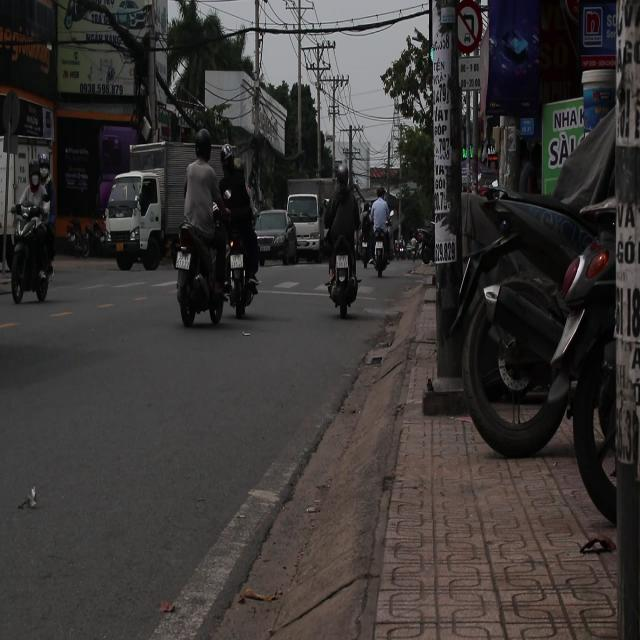car: (255, 212, 298, 264)
motorbike: (172, 221, 230, 330), (6, 180, 55, 304), (318, 232, 362, 328), (363, 227, 400, 283)
truck: (104, 173, 163, 271), (286, 182, 333, 263)
